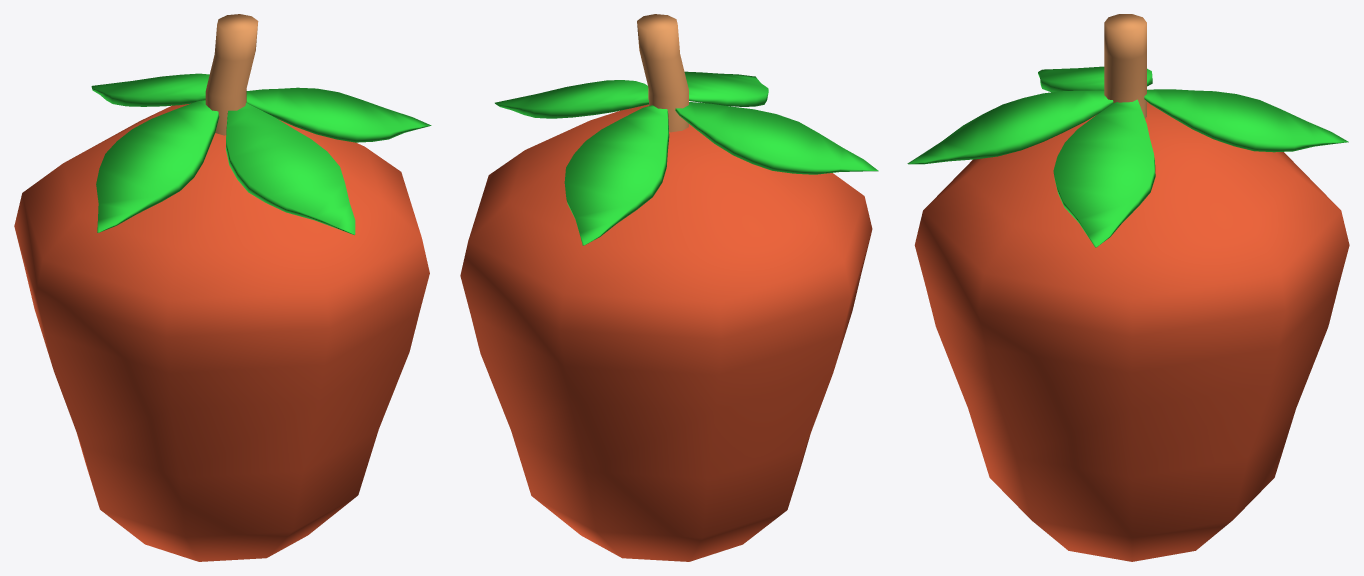
File: Strawberry.fbx
3 views of the same model, side by side, from view 1: azimuth 30°, elevation 25°; view 2: azimuth 150°, elevation 25°; view 3: azimuth 270°, elevation 25° (orthographic).
Visible parts, largest first — view 1: StrawberryB_003; view 2: StrawberryB_003; view 3: StrawberryB_003.
Part boxes in pixels (x1=…): StrawberryB_003: x1=14, y1=14, x2=431, y2=561; StrawberryB_003: x1=460, y1=14, x2=878, y2=561; StrawberryB_003: x1=907, y1=14, x2=1349, y2=561.
Size of the model in its own units: 102 by 133 by 102.
